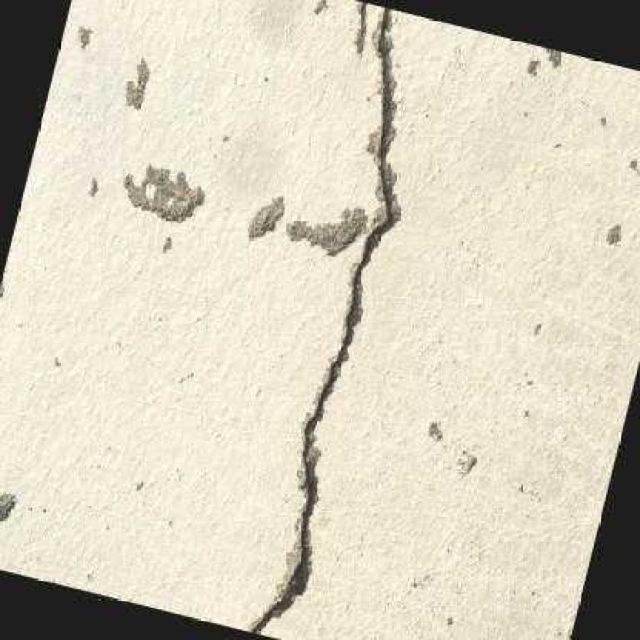D00: (280, 6, 390, 596), (248, 590, 295, 635), (356, 0, 366, 54)
